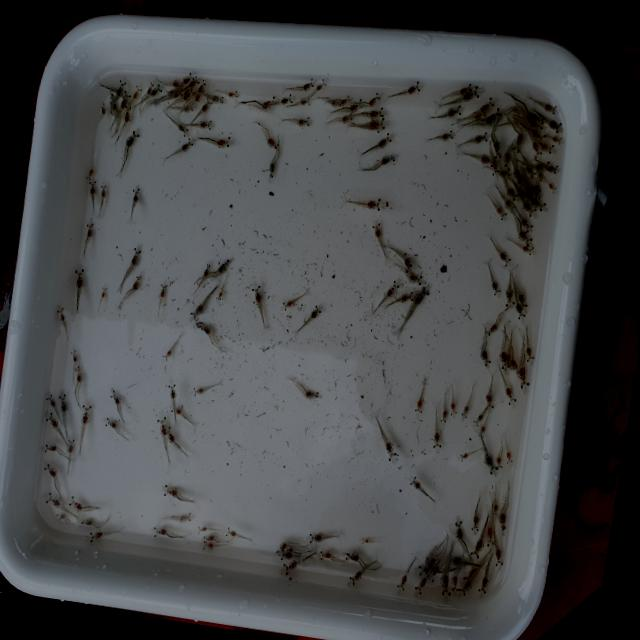babyshrimp: (291, 379, 321, 404), (251, 90, 279, 111), (455, 574, 477, 600), (412, 283, 431, 310), (124, 126, 142, 153), (482, 449, 498, 477), (44, 490, 65, 511), (470, 531, 485, 559), (162, 482, 184, 501), (383, 436, 399, 462), (497, 248, 515, 271), (502, 382, 518, 407), (527, 126, 548, 145), (405, 474, 425, 493), (490, 132, 504, 159), (438, 572, 452, 599), (413, 573, 429, 596), (462, 82, 481, 101), (541, 99, 559, 119), (346, 566, 364, 586), (385, 276, 401, 298), (154, 412, 167, 439), (119, 89, 133, 114), (514, 297, 528, 322), (378, 150, 397, 168), (282, 557, 301, 575), (162, 424, 179, 444), (517, 227, 534, 247), (518, 214, 535, 234), (483, 320, 503, 337), (251, 282, 263, 310), (129, 245, 143, 269), (74, 266, 86, 294), (42, 461, 58, 482), (476, 573, 489, 598), (178, 135, 196, 153), (518, 362, 530, 389), (216, 257, 233, 276), (198, 94, 215, 113), (43, 410, 60, 429), (486, 105, 503, 124), (189, 300, 205, 320), (505, 185, 521, 205), (363, 195, 383, 211), (377, 129, 393, 149), (485, 517, 495, 549), (497, 504, 508, 533), (80, 402, 92, 428), (504, 281, 516, 307), (516, 286, 529, 310), (494, 539, 504, 570), (395, 570, 409, 592), (547, 115, 564, 133), (66, 494, 85, 510), (367, 114, 386, 130), (152, 524, 172, 539), (309, 301, 323, 322), (196, 320, 214, 336), (131, 183, 142, 209), (88, 529, 107, 544), (403, 78, 422, 93), (444, 103, 464, 117), (524, 339, 536, 362), (58, 389, 69, 414), (400, 251, 413, 272), (185, 73, 201, 90), (296, 112, 313, 128), (179, 71, 194, 89), (346, 96, 364, 111), (307, 530, 326, 544), (343, 550, 362, 564), (489, 154, 501, 176), (265, 133, 278, 153), (366, 105, 386, 118), (484, 95, 500, 111), (410, 271, 426, 287), (279, 546, 295, 562), (281, 297, 298, 312), (399, 288, 416, 303), (338, 110, 355, 125), (224, 523, 241, 538), (66, 435, 77, 458), (483, 390, 495, 411), (495, 204, 509, 222), (109, 387, 122, 406), (472, 410, 485, 429), (431, 428, 442, 450), (499, 348, 510, 370), (480, 347, 491, 369), (416, 564, 438, 575), (116, 77, 128, 97), (147, 83, 163, 98), (457, 448, 472, 464), (411, 396, 424, 414), (368, 88, 381, 106), (167, 381, 178, 402), (490, 278, 502, 297), (371, 219, 383, 238), (522, 243, 537, 258), (42, 440, 58, 454), (178, 510, 194, 524), (439, 127, 456, 140), (451, 570, 461, 592), (213, 135, 231, 147), (267, 160, 276, 184), (192, 384, 207, 398), (177, 122, 191, 137), (104, 414, 118, 429), (473, 130, 488, 144), (161, 346, 174, 362), (197, 117, 213, 130), (200, 538, 216, 551), (74, 362, 83, 385), (195, 77, 207, 94), (88, 177, 98, 197), (454, 519, 464, 539), (123, 102, 132, 124), (505, 444, 514, 466), (471, 511, 480, 533), (169, 403, 184, 416), (549, 133, 565, 145), (458, 81, 474, 93), (160, 281, 169, 302), (316, 76, 327, 93), (299, 94, 312, 108), (280, 91, 293, 105), (84, 165, 95, 181), (132, 273, 143, 289), (55, 304, 66, 320), (132, 83, 142, 100), (449, 399, 459, 416), (302, 76, 315, 89), (318, 549, 332, 561), (459, 405, 470, 420), (477, 423, 488, 438), (100, 180, 108, 200), (86, 219, 94, 239), (203, 261, 212, 278), (69, 346, 78, 363), (439, 408, 448, 425), (359, 536, 371, 548), (227, 88, 240, 99), (55, 512, 68, 523), (45, 390, 55, 404), (202, 533, 219, 541), (215, 286, 224, 301), (196, 525, 209, 535), (146, 80, 155, 94), (340, 94, 352, 104), (79, 518, 96, 525), (99, 284, 108, 297), (99, 101, 106, 116)
